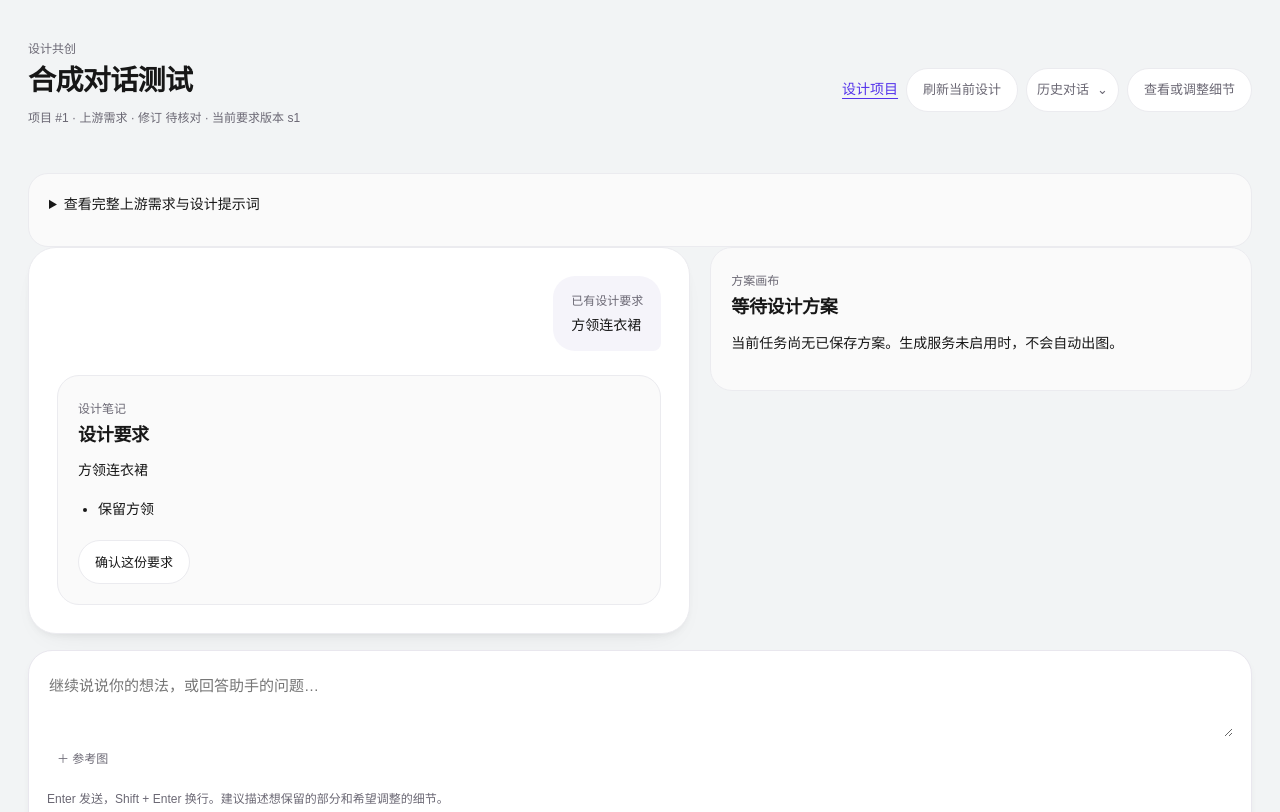
发送已成功但刷新失败，清空已发送内容而不诱导重复提交
The width and height of the screenshot is (1280, 812).
Type "裙摆加长" into the text box labelled "发消息给设计助手" at (640, 701), box [47,665,1233,737]
(page scrolled)
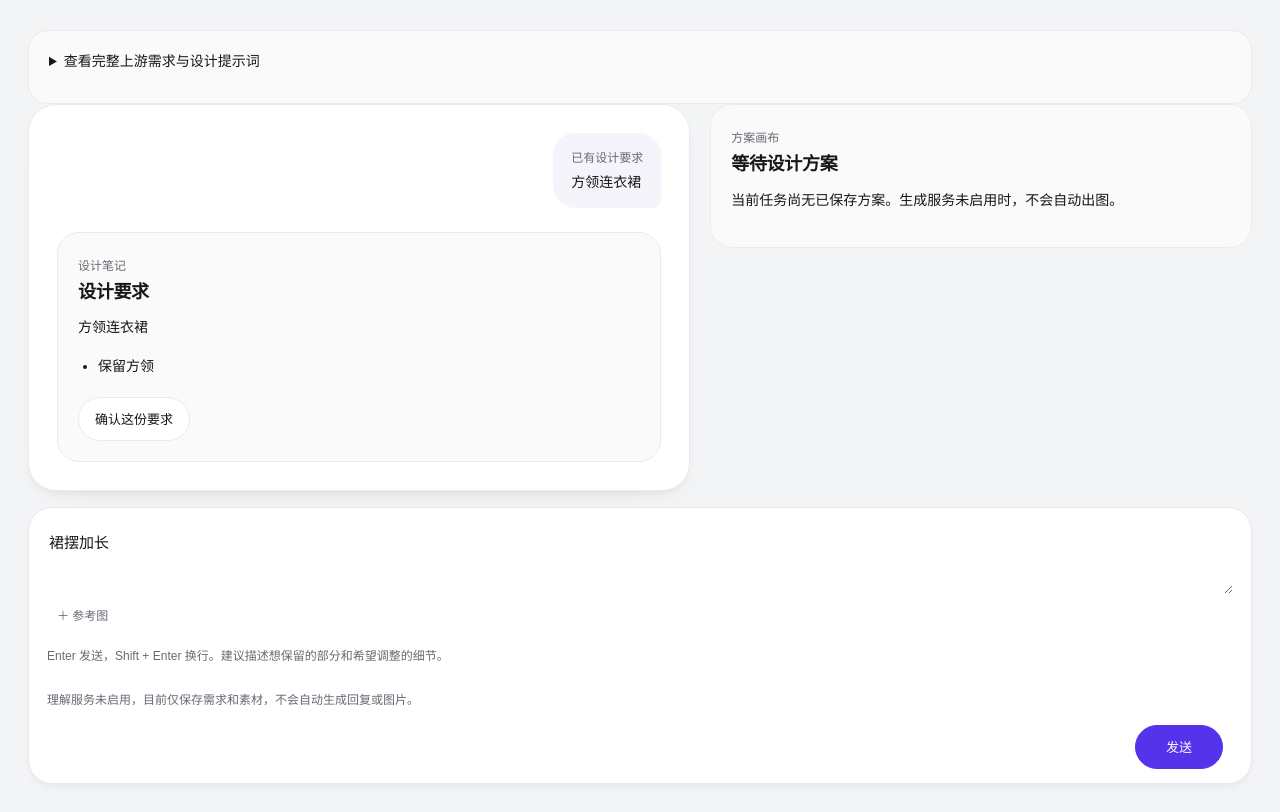
Click the button "发送" at (1179, 748), box [1135,726,1223,770]
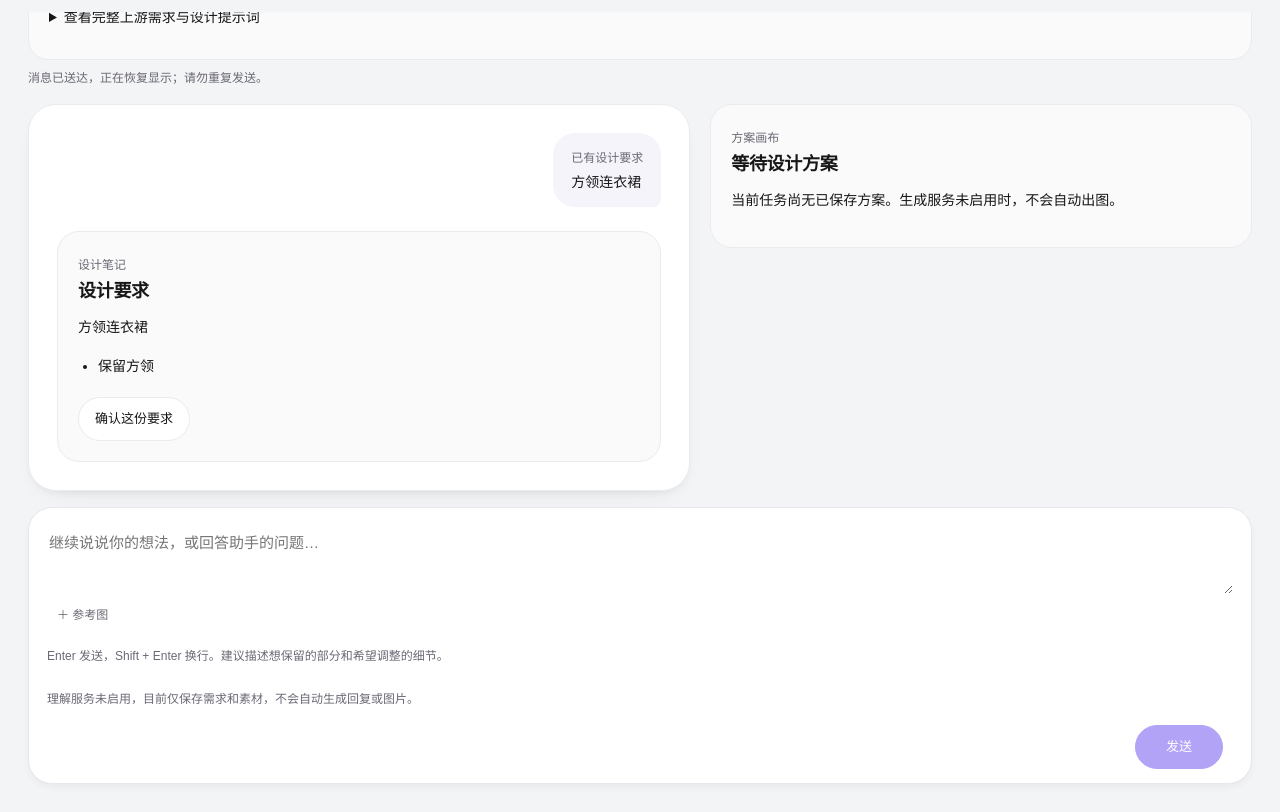
expect the text "消息已送达，正在恢复显示；请勿重复发送。" is shown: met, box [28,71,268,85]
expect the text box labelled "发消息给设计助手" is empty: met, box [47,522,1233,594]
expect the button "发送" is disabled: met, box [1135,725,1223,769]
